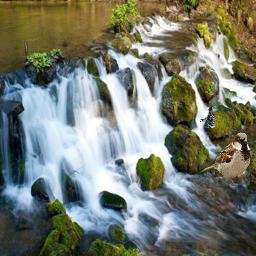Sparrow: (200, 132, 251, 186)
Woodpecker: (200, 106, 217, 129)
